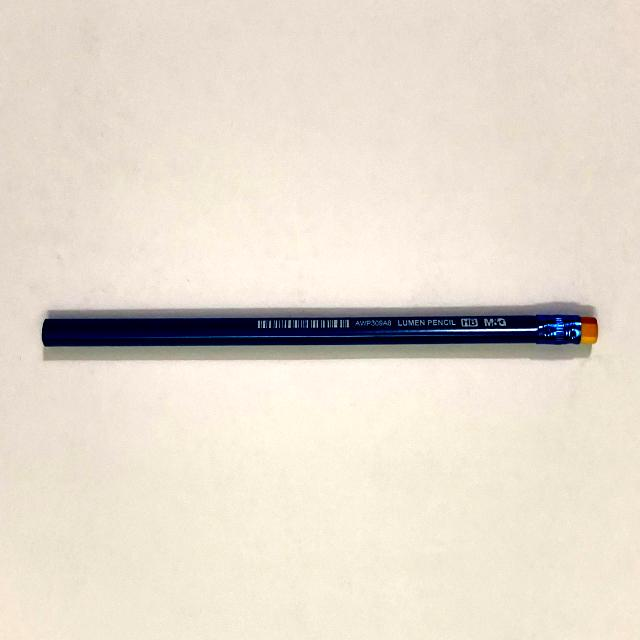Pencil: (30, 286, 624, 374)
